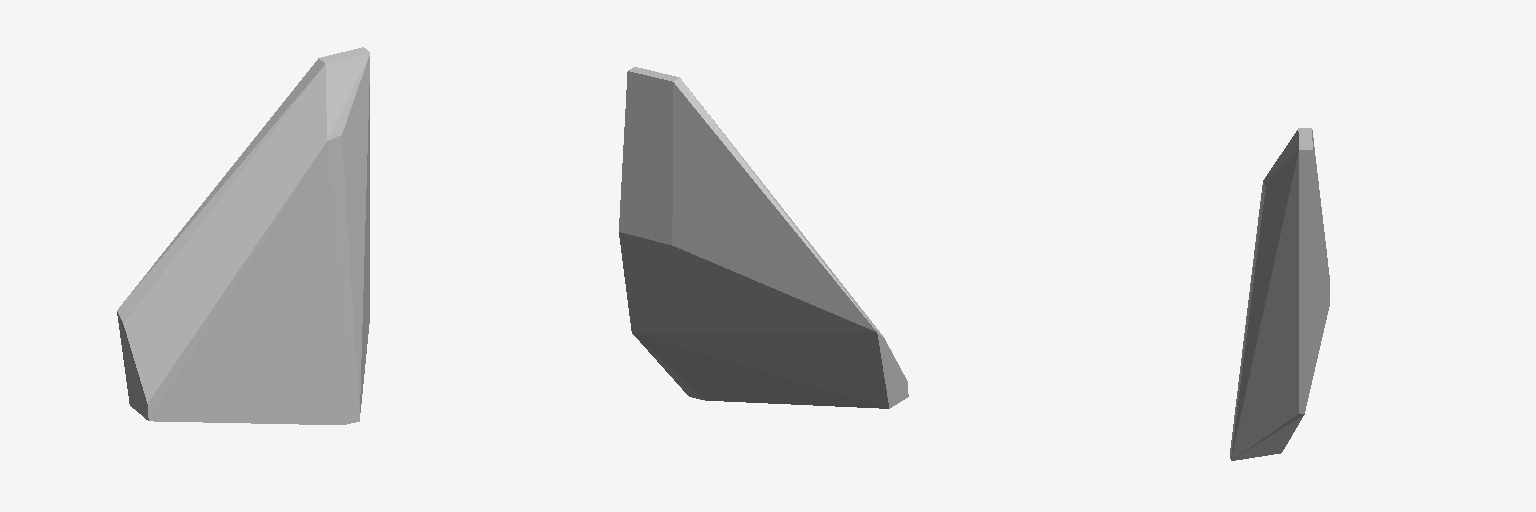
File: raw_model_collision_10.obj
3 views of the same model, side by side, from view 1: azimuth 30°, elevation 25°; view 2: azimuth 150°, elevation 25°; view 3: azimuth 270°, elevation 25° (orthographic).
Size of the model in its own units: 0.4598 by 0.5899 by 0.1604.